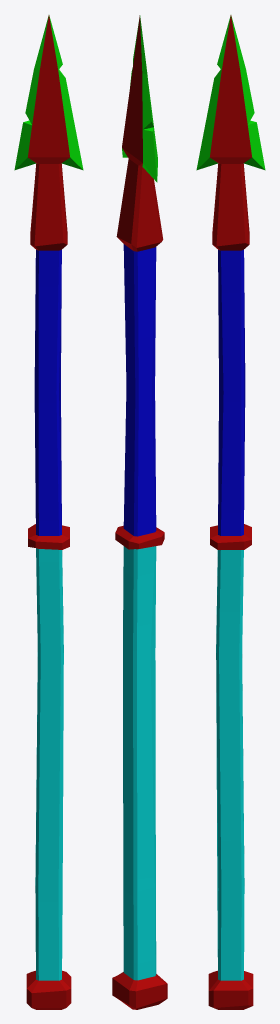
File: Spear_Rare_Harpoon.fbx
3 renders of one model, left to right at view 1: azimuth 90°, elevation 25°; view 2: azimuth 210°, elevation 25°; view 3: azimuth 270°, elevation 25°, orthographic.
Visible parts, largest first — view 1: SM_Wep_Spear_02; view 2: SM_Wep_Spear_02; view 3: SM_Wep_Spear_02.
Part boxes in pixels (x1,y1,x2,y2): SM_Wep_Spear_02: (14,15,83,1009); SM_Wep_Spear_02: (112,15,167,1009); SM_Wep_Spear_02: (196,15,265,1009).
Size of the model in its own units: 0.0858 by 2.11 by 0.1336.
